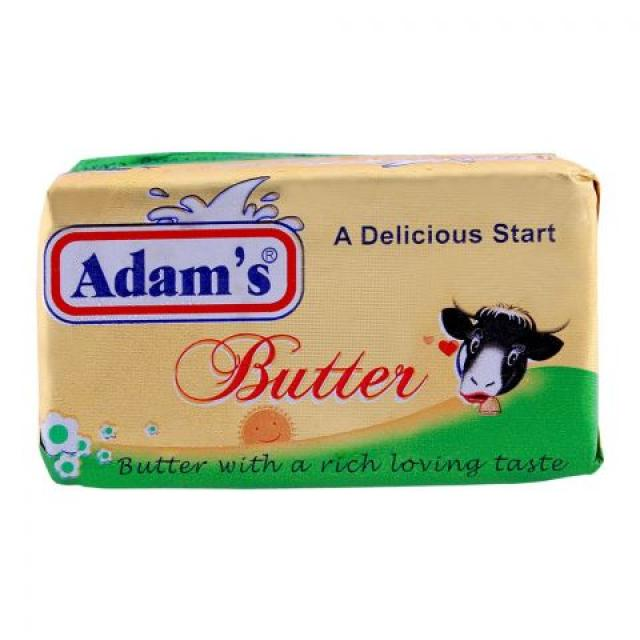butter: (36, 151, 603, 488)
